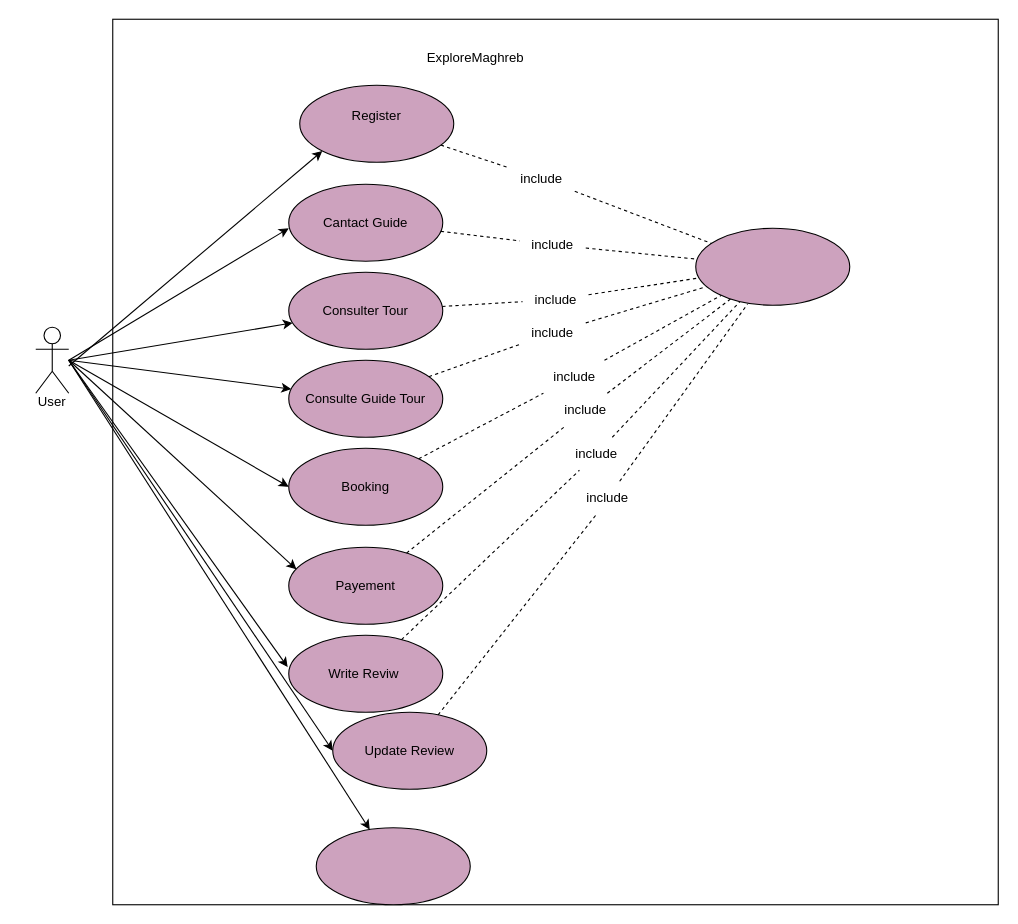
The diagram is 1018 pixels wide and 924 high, and some of its shapes have lost their labels. The shapes that lost their labels are listed below. From the top down, each one's centre as x and y in pixels, then its label:
point 772,266: Authentification
point 392,866: Logout
